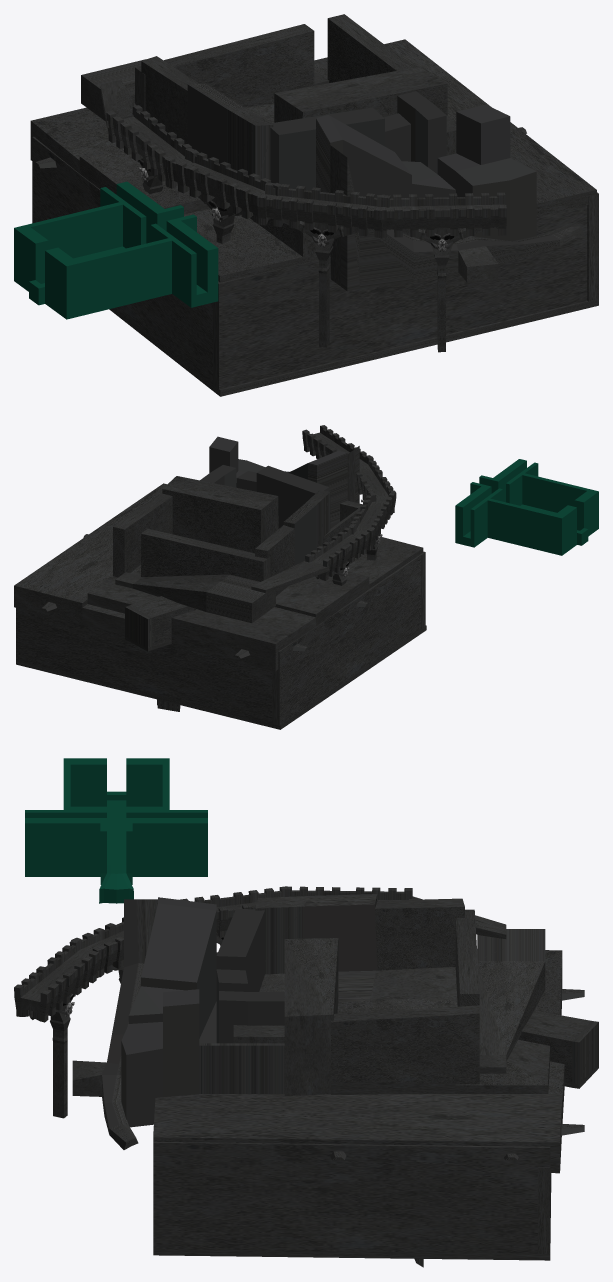
Rendered from citadel_environment.fbx.
3 views of the same model, one above another, from view 1: azimuth 30°, elevation 25°; view 2: azimuth 150°, elevation 25°; view 3: azimuth 270°, elevation 25° (orthographic). The views are drawn at different scales.
Parts seen in each view (by area): view 1: Cube.001; view 2: Cube.001; view 3: Cube.001.
Boxes of the visible parts, x1,y1,x2,y2 form: Cube.001: (14,14,598,396); Cube.001: (14,425,598,729); Cube.001: (14,758,598,1267).
Size of the model in its own units: 28631 by 13700 by 24012.
